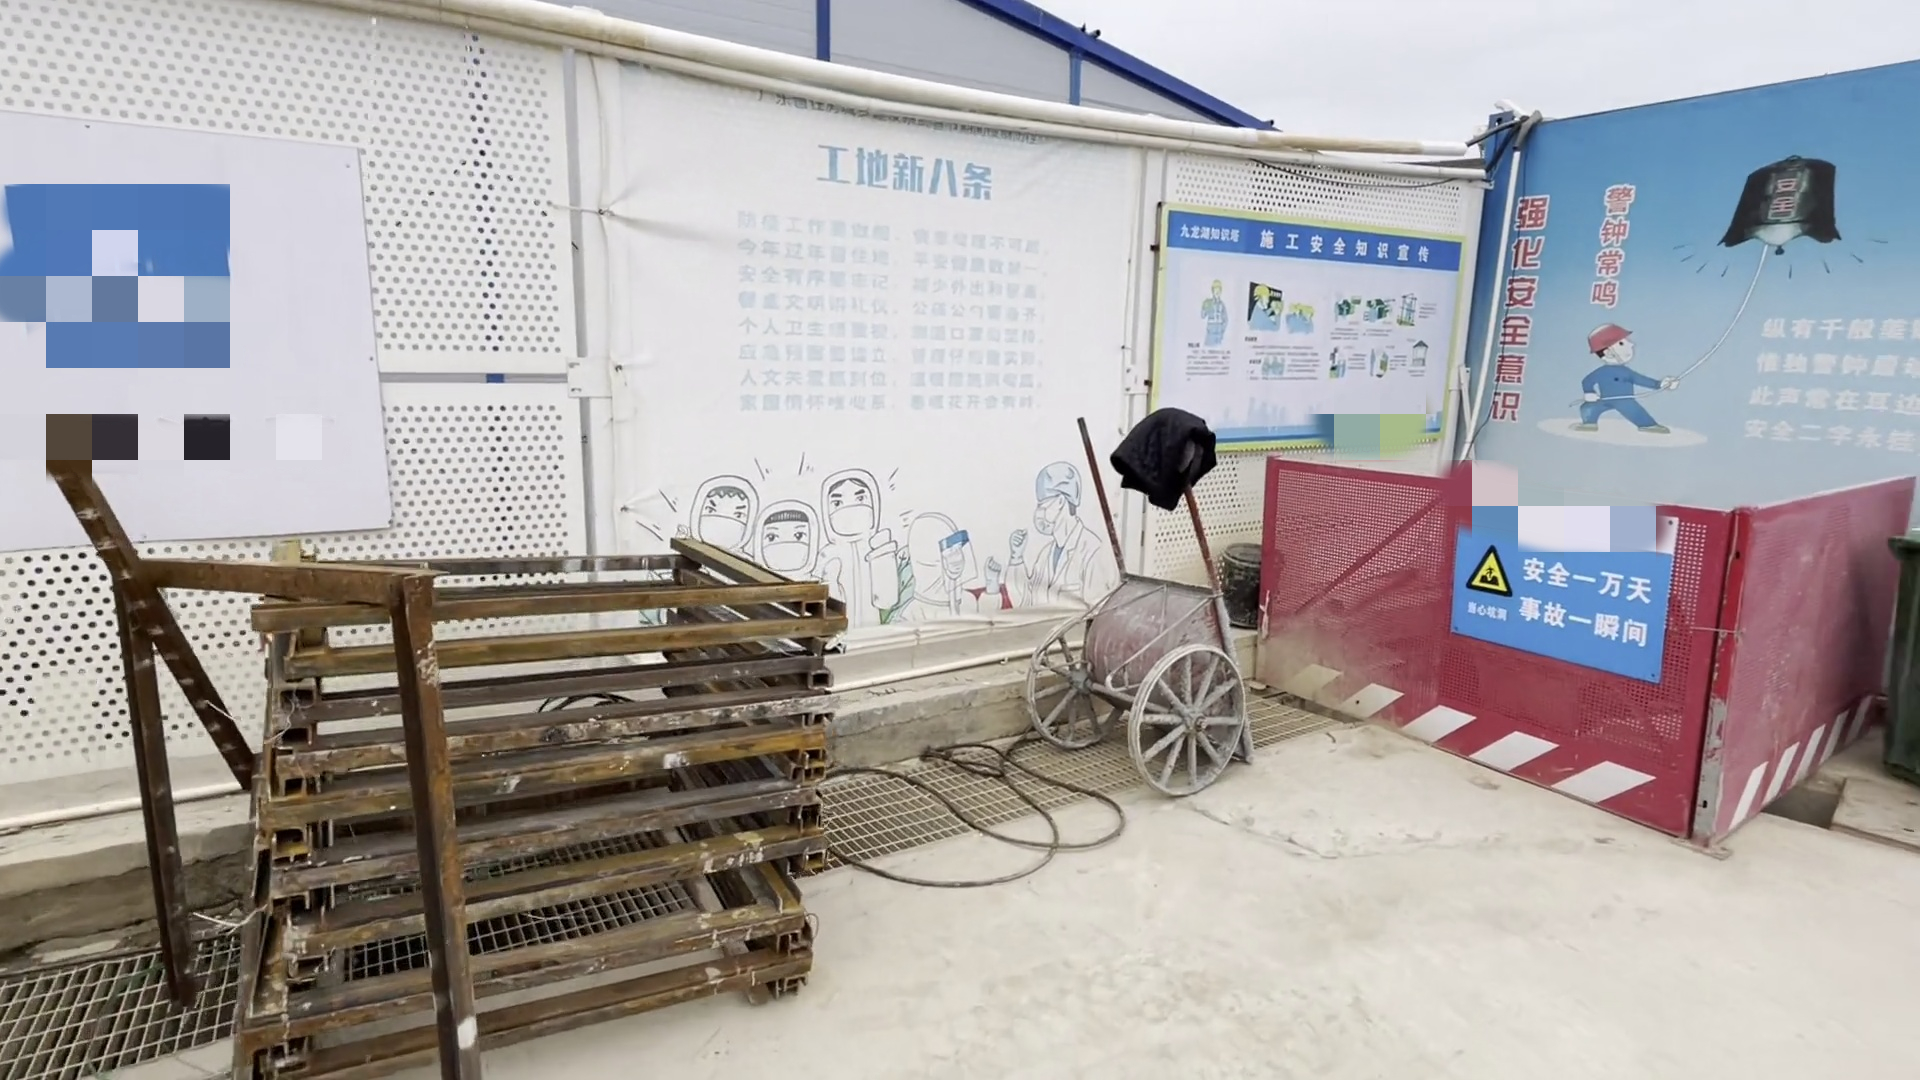handcart: (1004, 400, 1278, 816)
slogan: (1455, 496, 1658, 675)
